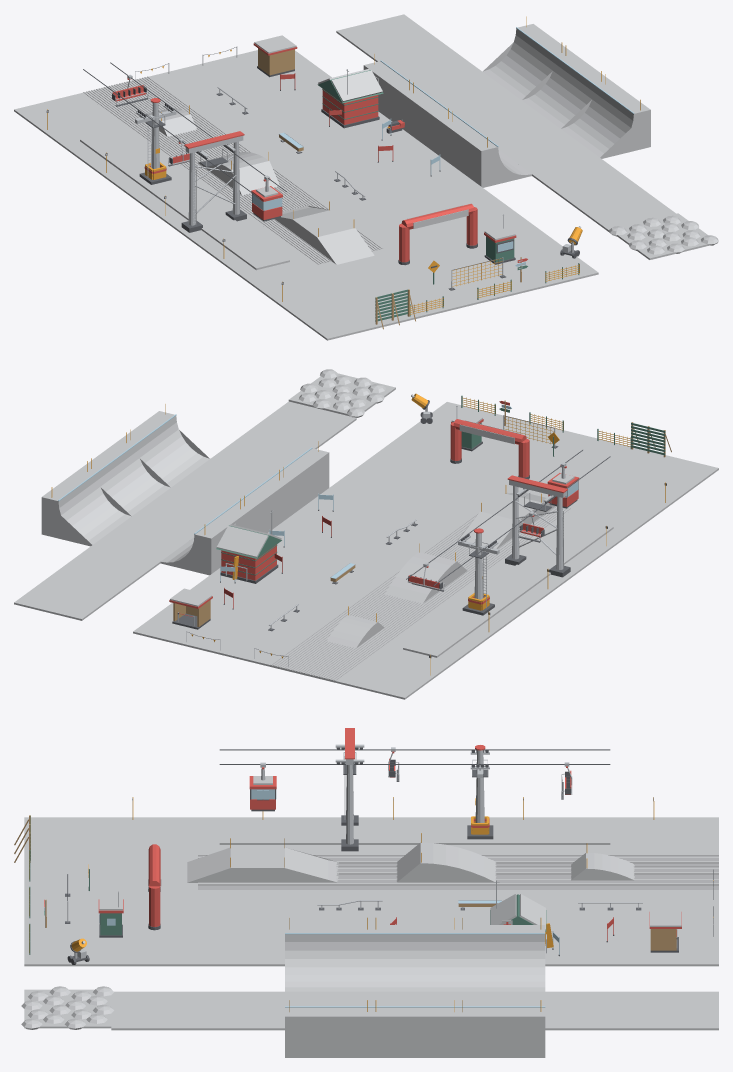
File: ski-resort-and-snow-park-snow-park-slope-24faaf51__26037.glb
3 renders of one model, top to bottom at view 1: azimuth 30°, elevation 25°; view 2: azimuth 150°, elevation 25°; view 3: azimuth 270°, elevation 25°, orthographic. The views are drawn at different scales.
Parts seen in each view (by area): view 1: 060-halfpipe-wall-right/0, 054-halfpipe-wall-right/0, 057-halfpipe-wall-right/0, 058-halfpipe-wall-left/0, 039-tabletop-jump/0, 036-mogul-tile/0, 032-piste-tile/0, 026-piste-tile/0, 027-piste-tile/0, 004-piste-tile/0, 000-piste-tile/0, 034-piste-tile/0 (+49 smaller); view 2: 054-halfpipe-wall-right/0, 060-halfpipe-wall-right/0, 057-halfpipe-wall-right/0, 036-mogul-tile/0, 000-piste-tile/0, 004-piste-tile/0, 001-corduroy-tile/0, 002-piste-tile/0, 009-piste-tile/0, 027-piste-tile/0, 031-piste-tile/0, 032-piste-tile/0 (+48 smaller); view 3: 052-halfpipe-wall-left/0, 055-halfpipe-wall-left/0, 058-halfpipe-wall-left/0, 039-tabletop-jump/0, 057-halfpipe-wall-right/0, 054-halfpipe-wall-right/0, 060-halfpipe-wall-right/0, 036-mogul-tile/0, 009-piste-tile/0, 004-piste-tile/0, 025-piste-tile/0, 026-piste-tile/0 (+44 smaller).
Part boxes in pixels (x1,y1,x2,y2): 060-halfpipe-wall-right/0: [561, 81, 650, 158]; 054-halfpipe-wall-right/0: [482, 24, 572, 100]; 057-halfpipe-wall-right/0: [522, 52, 610, 128]; 058-halfpipe-wall-left/0: [442, 118, 531, 187]; 039-tabletop-jump/0: [275, 205, 374, 264]; 036-mogul-tile/0: [609, 213, 718, 259]; 032-piste-tile/0: [288, 293, 395, 340]; 026-piste-tile/0: [532, 157, 638, 204]; 027-piste-tile/0: [249, 265, 355, 311]; 004-piste-tile/0: [336, 14, 442, 60]; 000-piste-tile/0: [14, 93, 120, 139]; 034-piste-tile/0: [424, 261, 530, 307]; 054-halfpipe-wall-right/0: [41, 468, 131, 546]; 060-halfpipe-wall-right/0: [120, 411, 209, 487]; 057-halfpipe-wall-right/0: [81, 439, 170, 515]; 036-mogul-tile/0: [288, 369, 395, 417]; 000-piste-tile/0: [337, 652, 444, 699]; 004-piste-tile/0: [14, 574, 121, 620]; 001-corduroy-tile/0: [269, 636, 375, 682]; 002-piste-tile/0: [201, 619, 307, 666]; 009-piste-tile/0: [53, 545, 160, 591]; 027-piste-tile/0: [573, 480, 679, 526]; 031-piste-tile/0: [250, 401, 356, 447]; 032-piste-tile/0: [612, 452, 718, 498]; 052-halfpipe-wall-left/0: [458, 925, 545, 991]; 055-halfpipe-wall-left/0: [371, 925, 458, 991]; 058-halfpipe-wall-left/0: [285, 925, 371, 991]; 039-tabletop-jump/0: [187, 847, 338, 882]; 057-halfpipe-wall-right/0: [371, 1007, 458, 1057]; 054-halfpipe-wall-right/0: [458, 1007, 545, 1057]; 060-halfpipe-wall-right/0: [285, 1007, 371, 1057]; 036-mogul-tile/0: [21, 986, 113, 1029]; 009-piste-tile/0: [545, 991, 632, 1030]; 004-piste-tile/0: [632, 991, 718, 1030]; 025-piste-tile/0: [198, 927, 284, 966]; 026-piste-tile/0: [198, 991, 284, 1030].
Bounding box in the file's own units: 52 × 9.62 × 64.95.
